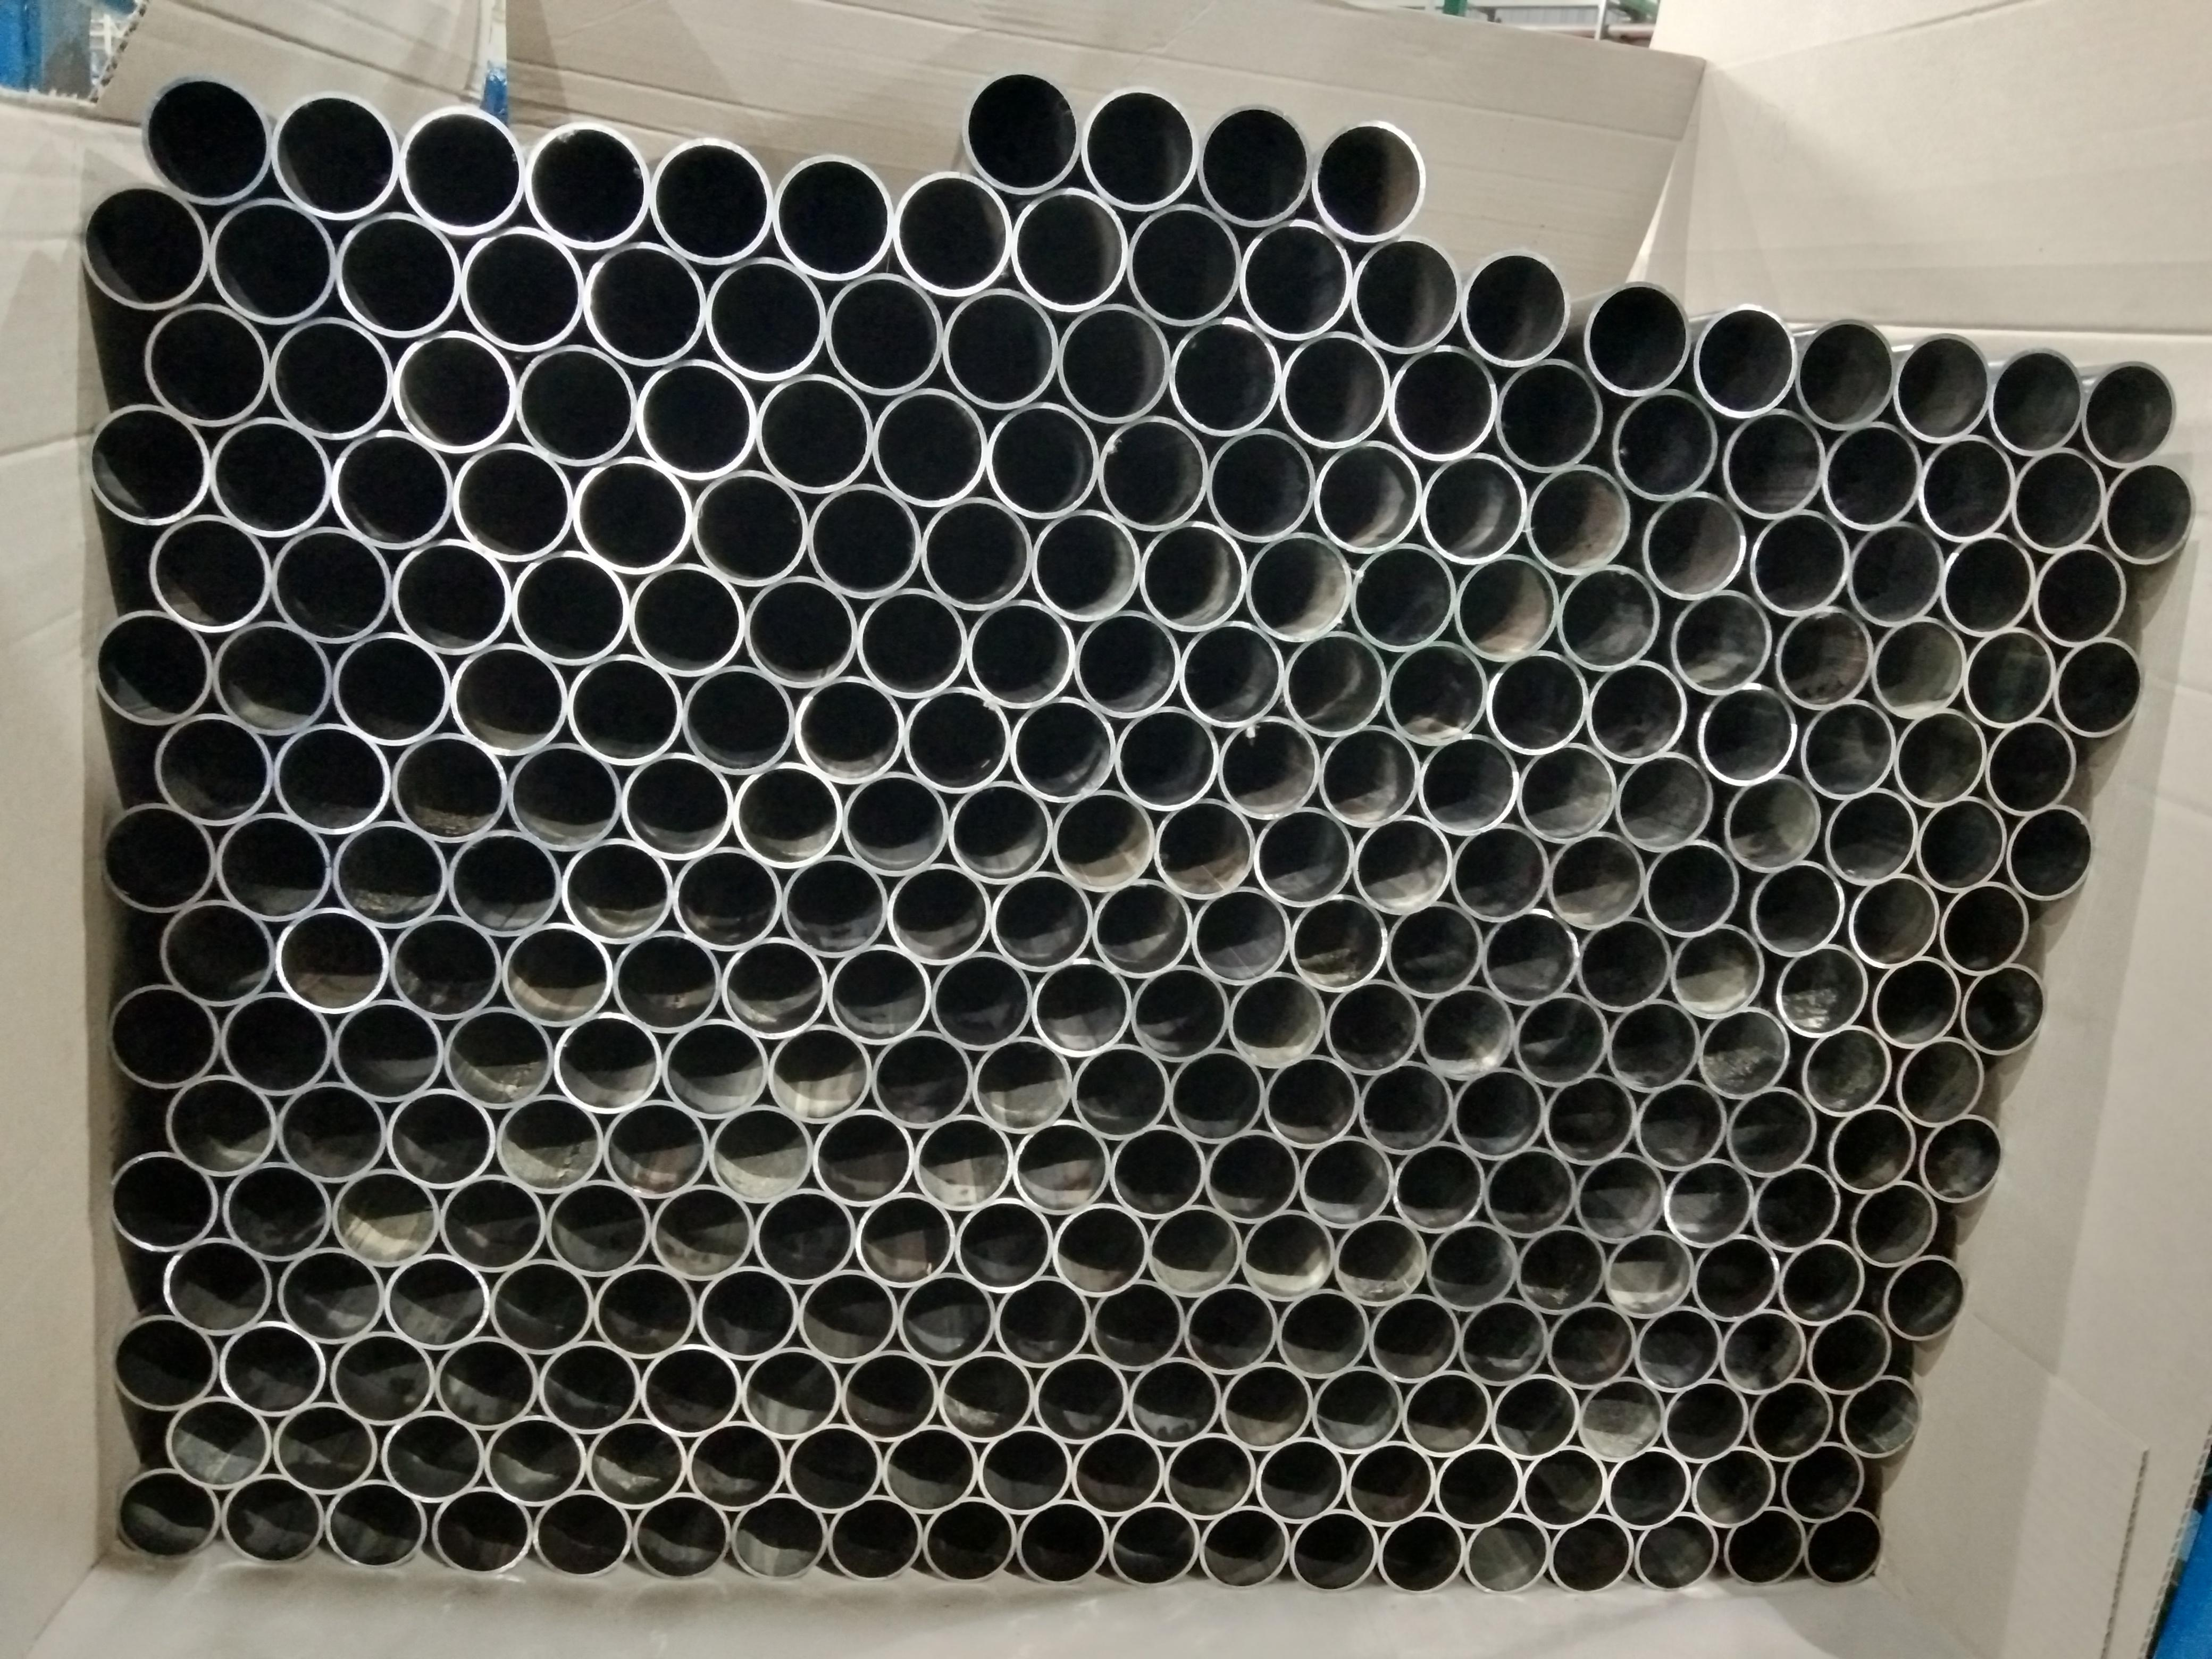pipe: (78, 179, 211, 308), (521, 118, 651, 247), (139, 73, 272, 200), (268, 89, 401, 216), (207, 193, 336, 322), (333, 207, 462, 336), (456, 223, 585, 352), (397, 105, 526, 232), (580, 239, 707, 364), (702, 253, 827, 380), (648, 136, 773, 261), (820, 268, 946, 394), (145, 298, 270, 423), (768, 153, 895, 277), (888, 167, 1012, 295), (266, 314, 394, 437), (1076, 84, 1200, 209), (512, 342, 637, 465), (390, 328, 517, 450), (634, 355, 758, 479), (1193, 98, 1313, 225), (206, 415, 333, 535), (1007, 183, 1127, 308), (329, 427, 455, 547), (449, 441, 575, 561), (89, 403, 211, 525), (1306, 117, 1426, 239), (939, 286, 1059, 408), (752, 371, 874, 491), (958, 70, 1082, 188), (1123, 200, 1242, 324), (570, 455, 693, 573), (688, 467, 810, 586), (148, 512, 272, 629), (268, 525, 392, 641), (388, 537, 512, 653), (1235, 216, 1352, 338), (1052, 300, 1169, 422), (507, 549, 631, 664), (869, 385, 986, 505), (211, 617, 333, 732), (1165, 314, 1280, 436), (1094, 410, 1207, 533), (625, 561, 745, 676), (92, 610, 212, 725), (448, 640, 568, 755), (982, 399, 1097, 519), (329, 631, 451, 744), (1348, 230, 1460, 354), (916, 493, 1033, 610), (1458, 246, 1575, 362), (153, 711, 273, 824), (270, 720, 390, 833), (805, 481, 921, 596), (1385, 342, 1498, 460), (1277, 329, 1388, 450), (740, 573, 857, 687), (564, 652, 683, 763), (214, 809, 333, 920), (388, 730, 509, 840), (853, 586, 968, 699), (679, 662, 796, 774), (1578, 279, 1693, 390), (1493, 355, 1604, 471), (1521, 462, 1632, 577), (1204, 425, 1313, 542), (503, 741, 622, 849), (329, 817, 448, 925), (101, 802, 214, 913), (1608, 387, 1721, 498), (1688, 300, 1797, 415), (617, 749, 733, 857), (446, 826, 563, 934), (157, 897, 275, 1004), (963, 596, 1075, 708), (275, 903, 388, 1012), (1028, 505, 1136, 620), (1310, 437, 1418, 552), (387, 911, 503, 1018), (1346, 540, 1456, 652), (792, 674, 904, 784), (669, 843, 782, 951), (1416, 450, 1524, 563), (559, 835, 674, 941), (105, 983, 219, 1089), (2078, 352, 2182, 469), (1792, 312, 1895, 430), (1134, 519, 1242, 631), (1240, 530, 1348, 641), (900, 685, 1012, 793), (730, 760, 843, 866), (218, 990, 333, 1094), (1717, 408, 1825, 518), (1071, 606, 1177, 718), (1451, 551, 1555, 664), (329, 997, 444, 1100), (1639, 490, 1747, 598), (1007, 694, 1115, 802), (840, 769, 949, 875), (500, 920, 613, 1023), (610, 927, 723, 1030), (162, 1072, 277, 1173), (105, 1152, 221, 1251), (1554, 563, 1660, 671), (1176, 619, 1282, 727), (1379, 638, 1487, 744), (944, 777, 1052, 884), (1745, 505, 1850, 615), (779, 852, 888, 957), (444, 1002, 554, 1107), (275, 1079, 387, 1182), (385, 1084, 496, 1187), (218, 1159, 333, 1258), (1667, 587, 1773, 694), (1581, 657, 1688, 763), (1111, 704, 1217, 810), (1278, 629, 1383, 737), (552, 1009, 662, 1112), (660, 1014, 770, 1117), (1892, 329, 1991, 443), (1770, 603, 1874, 709), (1482, 648, 1587, 755), (719, 934, 827, 1037), (601, 1094, 709, 1197), (495, 1091, 604, 1192), (1820, 418, 1921, 528), (108, 1314, 221, 1412), (1987, 342, 2085, 455), (1047, 788, 1153, 890), (885, 861, 991, 964), (707, 1100, 813, 1202), (331, 1164, 439, 1265), (162, 1237, 275, 1333), (1216, 714, 1318, 819), (1313, 723, 1416, 828), (1414, 730, 1517, 835), (766, 1019, 871, 1122), (1844, 519, 1946, 626), (545, 1176, 651, 1277), (650, 1180, 756, 1281), (437, 1171, 545, 1270), (275, 1244, 385, 1342), (1918, 432, 2015, 542), (216, 1319, 327, 1415), (1151, 796, 1254, 899), (1348, 812, 1451, 915), (988, 868, 1090, 971), (1609, 751, 1714, 852), (1188, 884, 1292, 985), (826, 941, 930, 1042), (869, 1026, 974, 1127), (383, 1249, 489, 1349), (488, 1255, 594, 1354), (1716, 772, 1824, 870), (113, 1466, 221, 1563), (2102, 455, 2200, 563), (2010, 443, 2106, 552), (1514, 741, 1615, 843), (928, 948, 1031, 1049), (1029, 955, 1132, 1056), (1693, 683, 1797, 782), (752, 1185, 857, 1284), (592, 1260, 698, 1358), (326, 1328, 435, 1422), (1251, 805, 1352, 906), (1447, 821, 1548, 922), (1089, 877, 1190, 978), (972, 1032, 1073, 1133), (913, 1110, 1014, 1211), (1010, 1115, 1111, 1216), (1796, 697, 1895, 800), (1639, 836, 1742, 936), (1939, 530, 2034, 636), (165, 1394, 273, 1488), (272, 1399, 380, 1493), (1545, 829, 1644, 931), (1383, 897, 1482, 999), (1129, 962, 1230, 1061), (1869, 613, 1966, 716), (812, 1107, 914, 1204), (2031, 542, 2127, 647), (434, 1333, 538, 1429), (536, 1337, 641, 1432), (221, 1471, 326, 1567), (1287, 892, 1386, 992), (1747, 859, 1848, 957), (1069, 1040, 1170, 1138), (853, 1190, 954, 1288), (1890, 704, 1986, 807), (695, 1263, 798, 1359), (796, 1267, 899, 1363), (378, 1408, 486, 1499), (1573, 915, 1672, 1012), (1667, 922, 1764, 1021), (1480, 904, 1576, 1006), (953, 1195, 1054, 1291), (740, 1342, 841, 1438), (1961, 626, 2055, 728), (2052, 634, 2146, 737), (639, 1340, 742, 1434), (324, 1478, 427, 1572), (428, 1483, 533, 1575), (1226, 969, 1324, 1066), (1322, 978, 1420, 1075), (1167, 1046, 1264, 1143), (1357, 1060, 1456, 1155), (840, 1345, 941, 1439), (1822, 786, 1918, 884), (1416, 983, 1514, 1079), (1510, 990, 1606, 1087), (1602, 997, 1700, 1093), (1695, 1002, 1791, 1100), (1261, 1053, 1359, 1148), (1108, 1122, 1205, 1218), (1982, 714, 2076, 814), (535, 1486, 634, 1581), (1914, 795, 2006, 896), (484, 1412, 585, 1504), (1449, 1063, 1545, 1159), (1183, 1279, 1278, 1375), (1723, 1084, 1820, 1178), (897, 1270, 995, 1364), (1275, 1283, 1369, 1380), (632, 1488, 732, 1581), (585, 1415, 686, 1506), (1846, 871, 1940, 967), (1773, 943, 1867, 1039), (1204, 1127, 1299, 1222), (1089, 1277, 1184, 1371), (1052, 1201, 1150, 1293), (993, 1274, 1090, 1366), (2005, 802, 2095, 901), (784, 1422, 885, 1511), (1541, 1072, 1635, 1166), (1632, 1077, 1726, 1171), (1482, 1143, 1576, 1237), (1937, 880, 2029, 976), (1797, 1023, 1893, 1115), (1146, 1201, 1242, 1293), (1238, 1206, 1334, 1298), (1033, 1351, 1129, 1443), (686, 1419, 786, 1507), (1893, 1033, 1986, 1127), (1298, 1133, 1392, 1225), (1390, 1140, 1484, 1232), (1573, 1150, 1665, 1244), (1423, 1216, 1515, 1310), (1367, 1290, 1460, 1384), (1460, 1295, 1552, 1389), (733, 1490, 827, 1582), (1015, 1495, 1109, 1588), (1871, 953, 1961, 1049), (937, 1349, 1033, 1439), (1127, 1354, 1223, 1445), (827, 1493, 923, 1584), (881, 1422, 979, 1511), (1662, 1155, 1754, 1248), (1332, 1211, 1425, 1303), (1514, 1222, 1606, 1314), (1402, 1368, 1494, 1460), (1824, 1101, 1918, 1192), (1602, 1227, 1693, 1319), (1545, 1298, 1635, 1391), (1221, 1361, 1313, 1452), (1163, 1429, 1256, 1520), (923, 1495, 1015, 1586), (1958, 962, 2047, 1056), (977, 1424, 1071, 1513), (1752, 1162, 1843, 1253), (1312, 1363, 1402, 1453), (1846, 1178, 1940, 1265), (1918, 1112, 2006, 1202), (1879, 1251, 1970, 1340), (1489, 1370, 1578, 1460), (1254, 1434, 1345, 1523), (1345, 1438, 1435, 1527), (1109, 1499, 1200, 1588), (1071, 1427, 1163, 1514), (1689, 1234, 1778, 1323), (1433, 1441, 1522, 1530), (1200, 1502, 1289, 1591), (1777, 1237, 1867, 1324), (1634, 1302, 1721, 1392), (1717, 1307, 1806, 1394), (1289, 1506, 1378, 1593), (1378, 1509, 1465, 1596), (1660, 1377, 1749, 1462), (1576, 1373, 1662, 1460), (1521, 1443, 1606, 1530), (1604, 1445, 1691, 1530), (1804, 1310, 1895, 1392), (1747, 1377, 1838, 1459), (1838, 1373, 1923, 1459), (1465, 1511, 1550, 1596), (1778, 1441, 1867, 1523), (1548, 1513, 1634, 1596), (1691, 1445, 1778, 1527), (1634, 1511, 1721, 1593), (1723, 1506, 1806, 1588), (1803, 1506, 1885, 1588)
